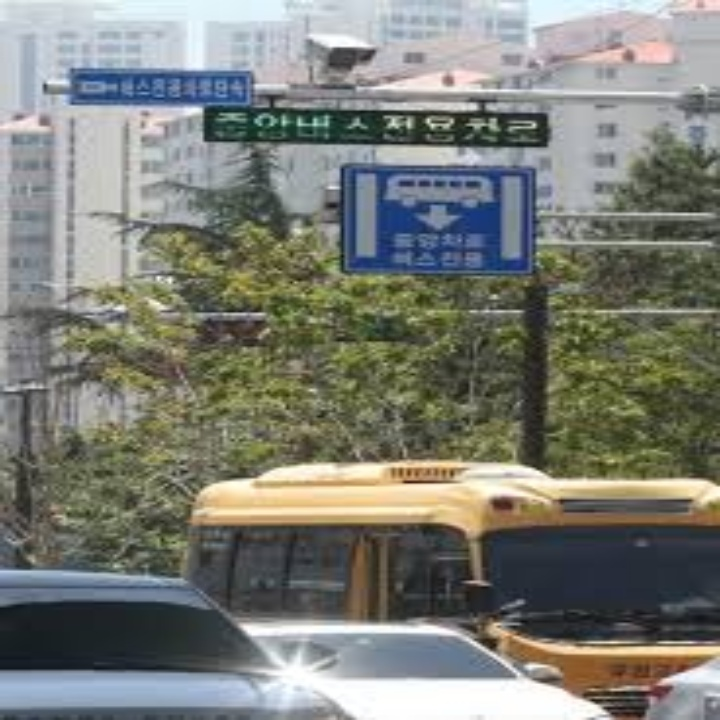bus: (378, 168, 498, 210)
